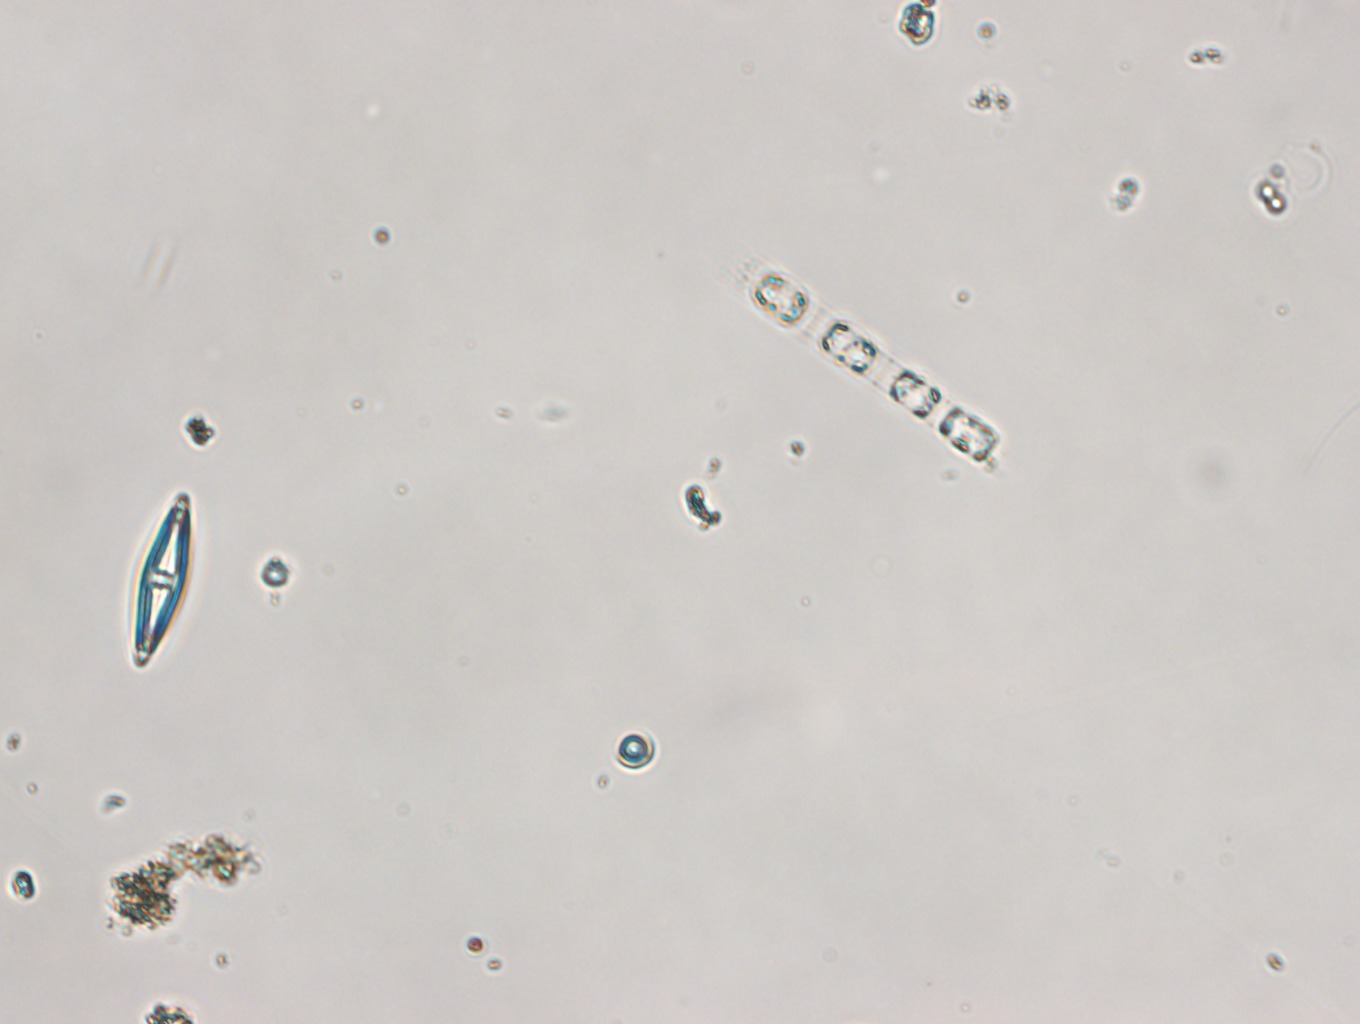navicula: (131, 492, 192, 669)
skeletonema: (734, 258, 1001, 469)
